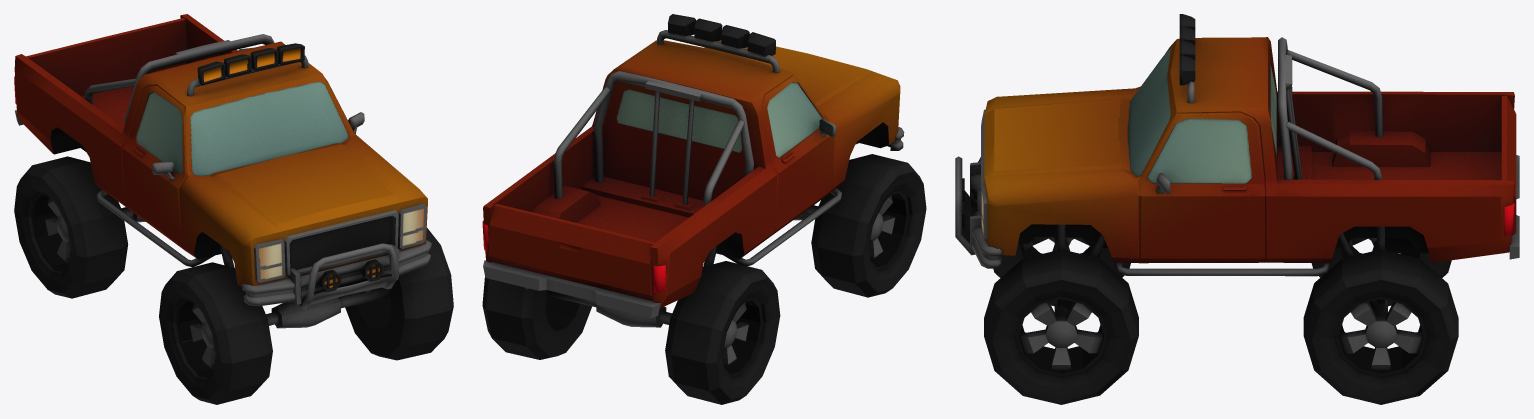
The model's file is test-car2.glb.
3 renders of one model, left to right at view 1: azimuth 30°, elevation 25°; view 2: azimuth 150°, elevation 25°; view 3: azimuth 270°, elevation 25°, orthographic. The views are drawn at different scales.
Visible parts, largest first — view 1: Monster Truck Orange; view 2: Monster Truck Orange; view 3: Monster Truck Orange.
Part boxes in pixels (x1=…): Monster Truck Orange: x1=14, y1=14, x2=453, y2=404; Monster Truck Orange: x1=482, y1=14, x2=926, y2=404; Monster Truck Orange: x1=955, y1=14, x2=1519, y2=404.
Bounding box in the file's own units: 2.93 × 3.28 × 5.44.
1 material, 1 textured.
